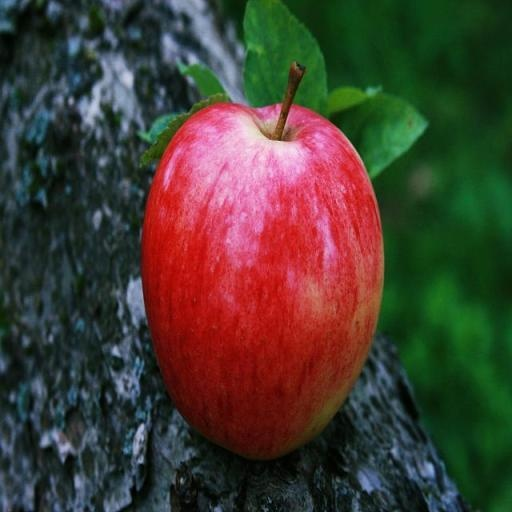fruit: (64, 120, 224, 491), (142, 40, 440, 113), (288, 93, 291, 95)
